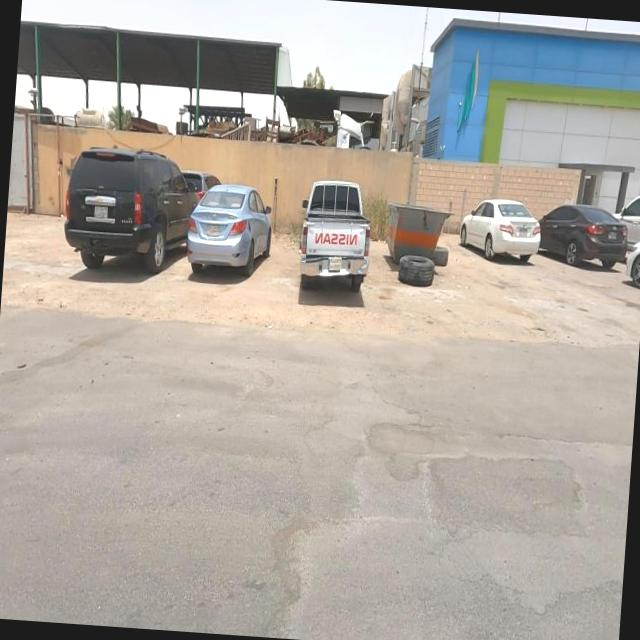debris: (351, 190, 478, 350)
